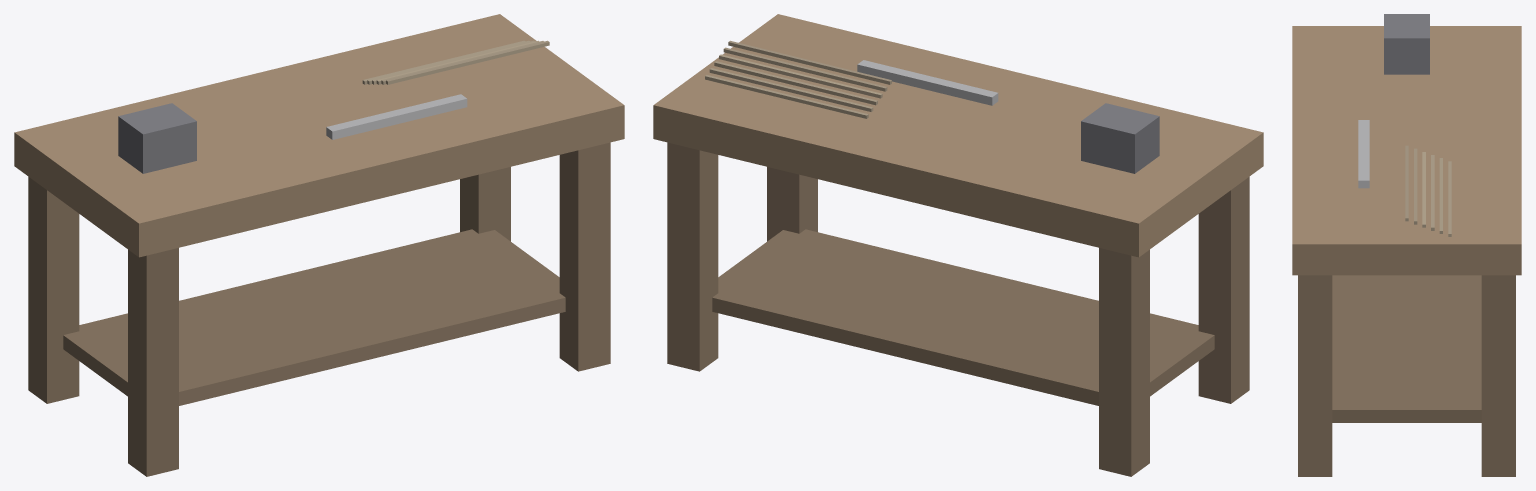
Rendered from workbench.glb.
The picture shows the model from 3 angles, left to right: view 1: azimuth 30°, elevation 25°; view 2: azimuth 150°, elevation 25°; view 3: azimuth 270°, elevation 25°; orthographic projection. The views are drawn at different scales.
Parts seen in each view (by area): view 1: ../props/workbench; view 2: ../props/workbench; view 3: ../props/workbench.
Part boxes in pixels (x1,y1,x2,y2): ../props/workbench: [14, 14, 624, 476]; ../props/workbench: [653, 14, 1263, 476]; ../props/workbench: [1292, 14, 1521, 476].
Size of the model in its own units: 1.8 by 1.05 by 0.8.
